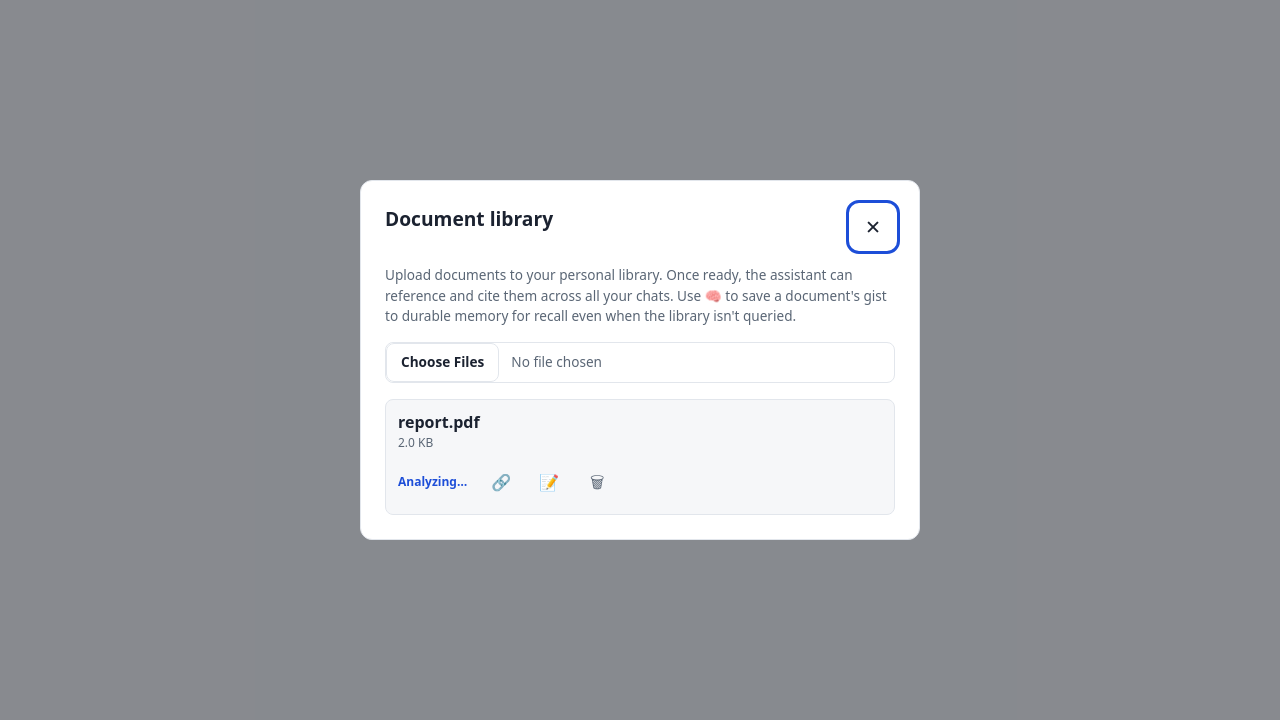
Test: LibraryPanel delete › applies an older poll when deletion is canceled
Expected: the text "Analyzing…" is shown, [398,473,467,491]
Click the button named "Permanently delete report.pdf" at (597, 482), box [575,460,619,504]
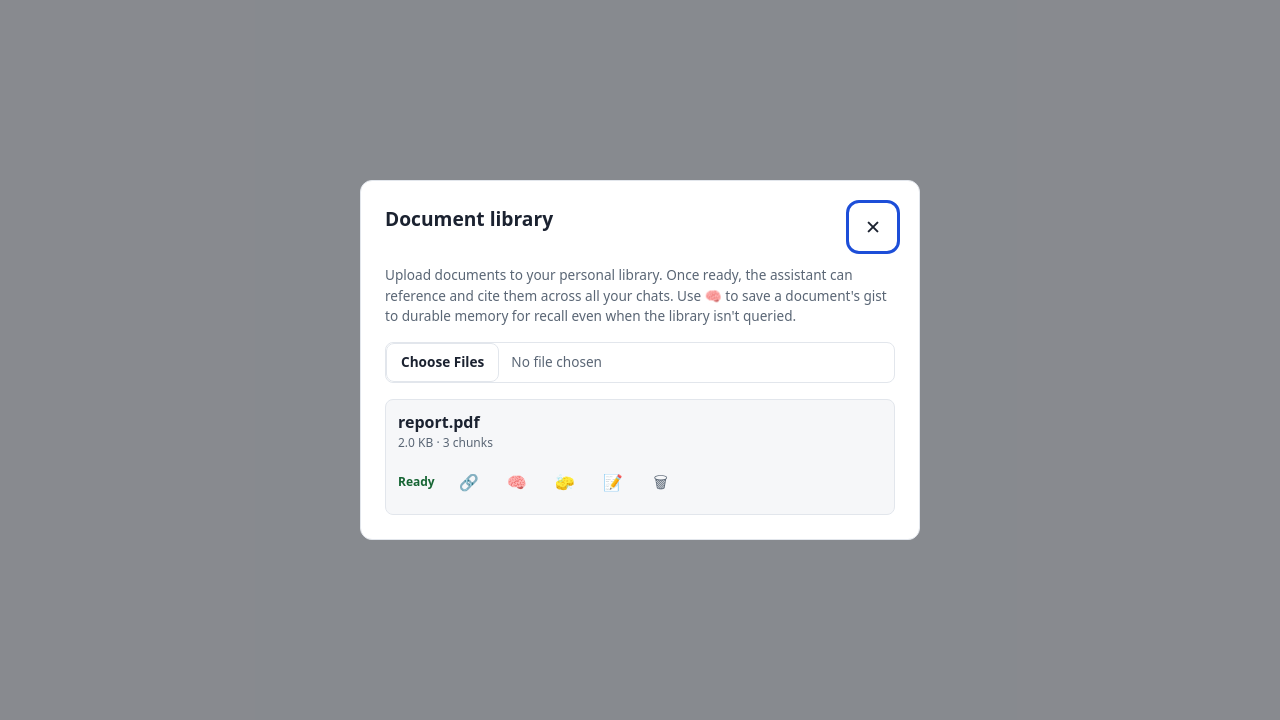
Expected: the button named "Permanently delete report.pdf" is shown, [639,460,683,504]
Now the text "Ready" is shown, box [398,473,435,491]
